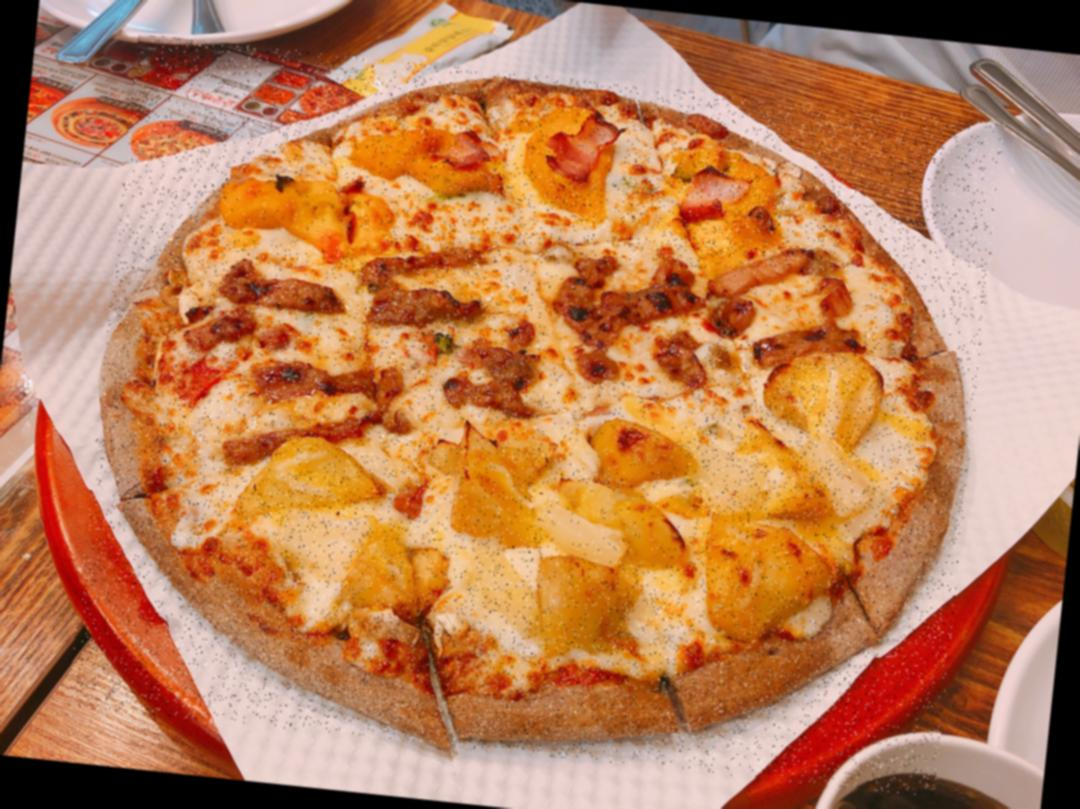Ham: (542, 253, 712, 388), (703, 260, 872, 352), (221, 398, 378, 479), (352, 240, 484, 329), (441, 330, 540, 413), (248, 358, 408, 408), (215, 260, 346, 318), (542, 113, 629, 184), (678, 159, 752, 224), (178, 309, 256, 346), (433, 136, 493, 176)
Peppers: (700, 508, 836, 651), (656, 126, 788, 266), (430, 415, 548, 542), (754, 340, 893, 442), (224, 168, 384, 256), (237, 431, 387, 523), (553, 480, 694, 570), (726, 407, 829, 519), (348, 127, 497, 201), (518, 109, 617, 216), (340, 530, 452, 620), (582, 400, 691, 490), (528, 558, 629, 644)
Pizza: (68, 34, 1005, 797)
